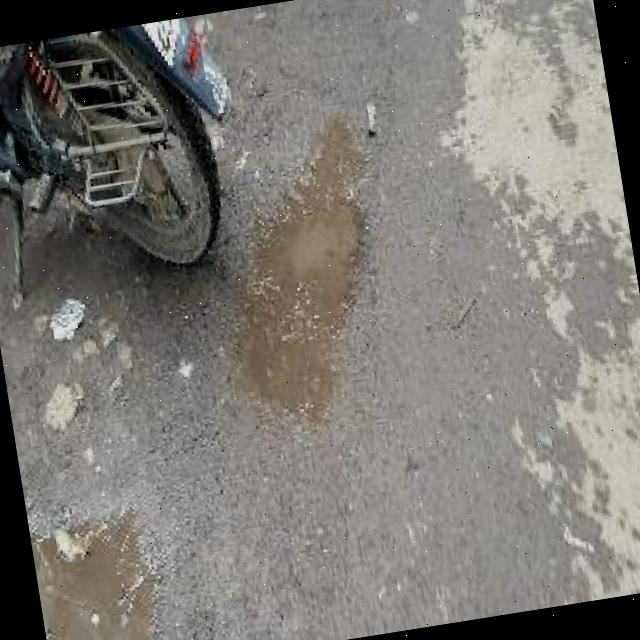waterlogging: (232, 158, 391, 414)
